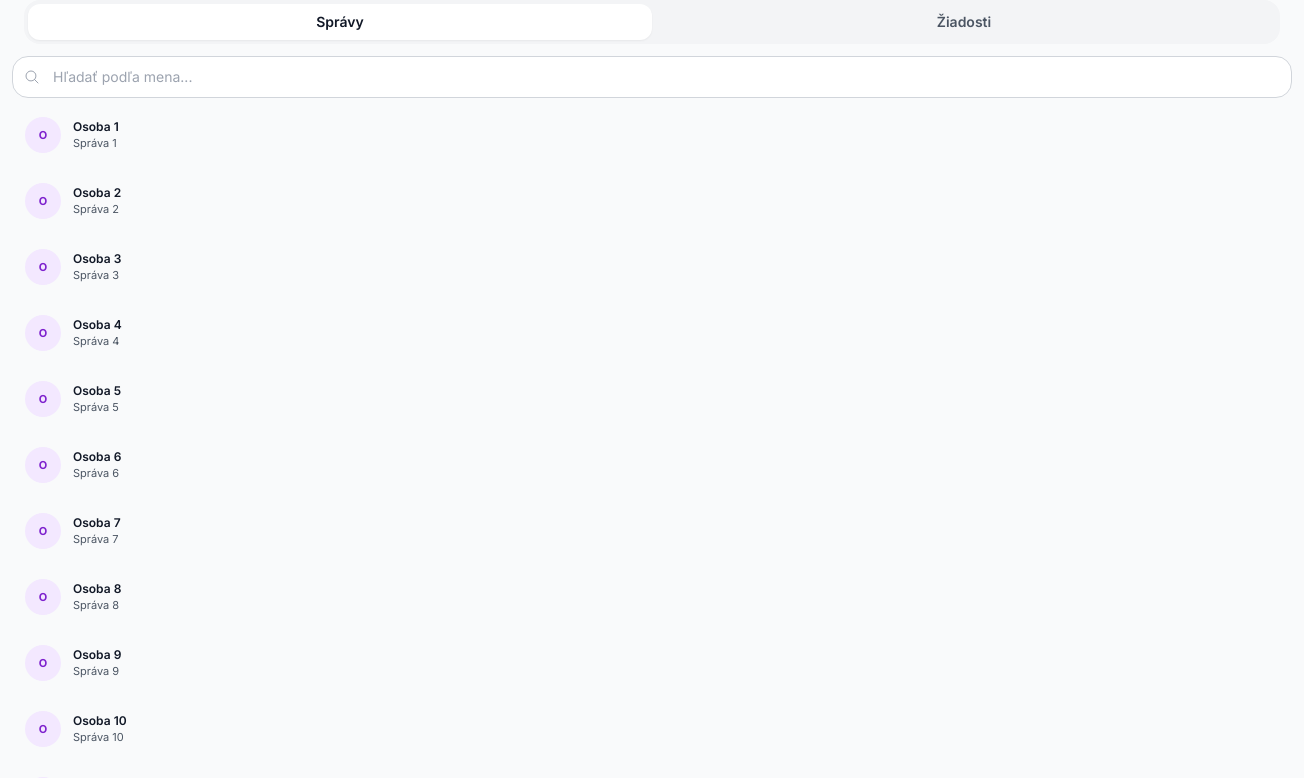
Test: ConversationsList infinite scroll › does not recompute the badge from the search results when a conversation disappears
expect the text "Osoba 1" is shown: met, box [73, 119, 119, 135]
In the field labelled "Hľadať podľa mena...": [652, 77] box [12, 56, 1292, 98], type "Osoba 3"
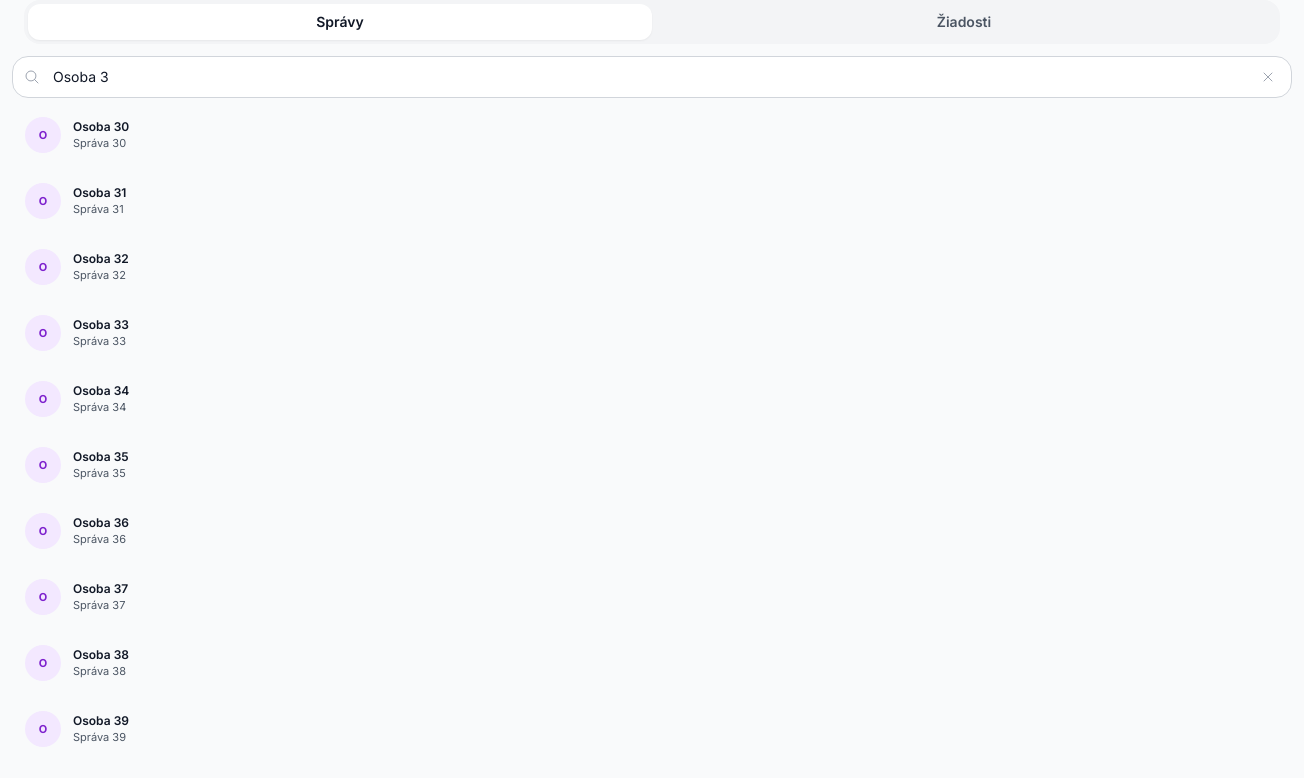
expect the button "Osoba 1" is gone: met
